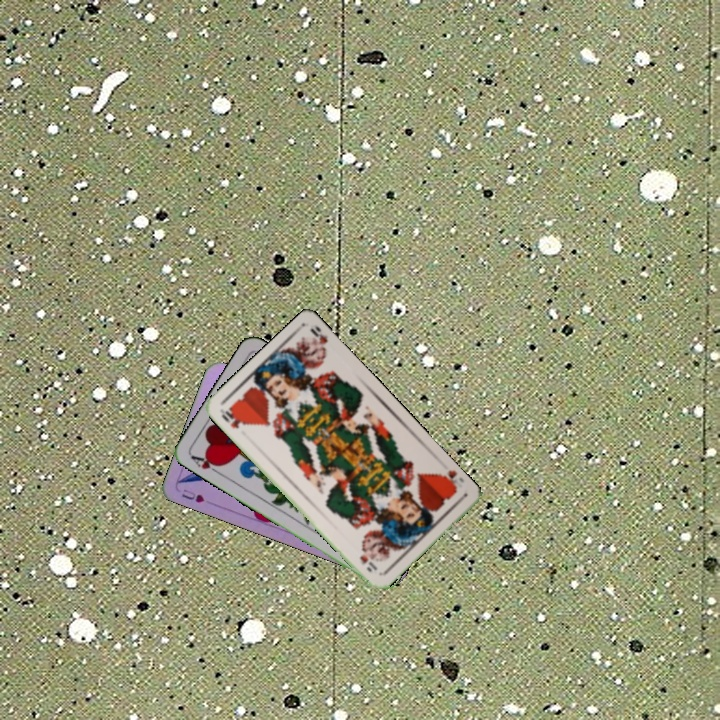HA: (187, 451, 225, 478)
HO: (217, 404, 247, 431), (435, 466, 460, 495)
HU: (177, 485, 207, 505)
